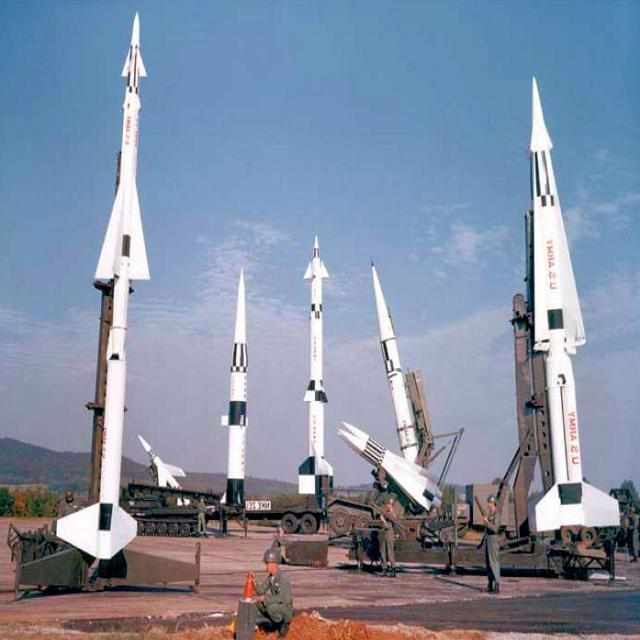missile: (53, 2, 153, 553), (519, 70, 621, 545), (205, 252, 262, 507), (291, 225, 331, 518)
